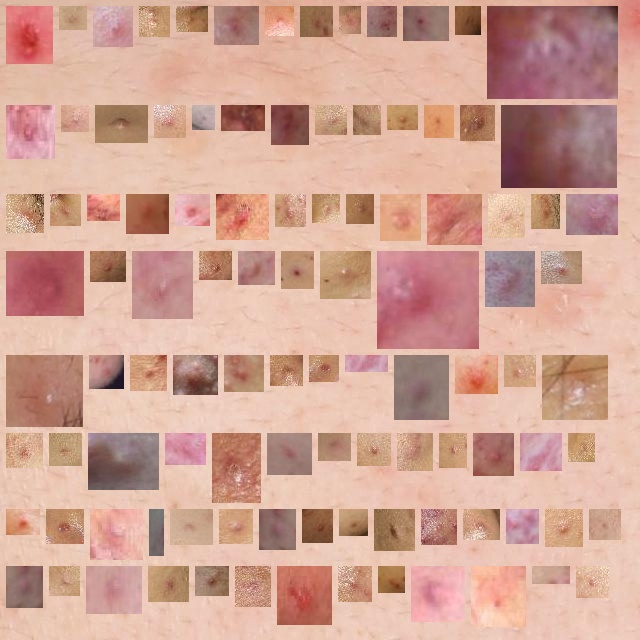papule: (495, 14, 610, 91), (385, 259, 471, 341), (509, 113, 609, 180), (14, 363, 75, 419), (14, 259, 76, 308), (550, 363, 600, 412), (140, 259, 185, 311), (96, 441, 151, 482), (402, 363, 441, 412), (220, 441, 253, 495), (479, 574, 518, 619), (285, 574, 324, 617), (94, 566, 134, 606), (419, 574, 457, 614), (435, 202, 474, 237), (493, 259, 527, 299), (14, 14, 45, 56), (98, 517, 135, 552), (14, 113, 47, 151), (328, 259, 363, 291), (224, 202, 261, 232), (574, 202, 610, 227), (103, 113, 140, 135), (388, 202, 413, 233), (275, 441, 304, 467), (181, 363, 210, 387), (481, 441, 506, 468), (222, 14, 251, 37), (382, 517, 407, 543), (134, 202, 161, 226), (263, 517, 288, 542), (14, 574, 38, 600), (463, 363, 490, 386), (101, 14, 125, 39), (410, 14, 441, 33), (496, 202, 517, 230), (528, 441, 554, 463), (178, 517, 205, 537), (279, 113, 301, 137), (14, 202, 36, 225), (232, 363, 256, 384), (156, 574, 181, 594), (243, 574, 263, 599), (553, 517, 575, 539), (229, 113, 257, 130), (405, 441, 425, 463), (549, 259, 574, 276), (138, 363, 159, 383), (54, 517, 76, 536), (173, 441, 198, 457), (429, 517, 449, 537), (14, 441, 35, 460), (468, 113, 487, 133), (246, 259, 267, 277), (289, 259, 306, 281), (346, 574, 364, 594), (97, 363, 116, 381), (227, 517, 245, 536), (514, 517, 531, 536), (471, 517, 492, 532), (365, 441, 383, 458), (183, 202, 202, 218), (98, 259, 118, 274), (57, 441, 74, 458), (162, 113, 178, 130), (584, 574, 601, 590), (310, 517, 325, 535), (512, 363, 528, 379), (308, 14, 325, 29), (283, 202, 298, 219), (278, 363, 295, 378), (203, 574, 221, 588), (539, 202, 552, 221), (58, 202, 73, 218), (597, 517, 613, 532), (432, 113, 446, 130), (447, 441, 459, 460), (147, 14, 162, 29), (323, 113, 339, 127), (207, 259, 224, 272), (353, 363, 380, 371), (375, 14, 389, 29), (57, 574, 72, 588), (326, 441, 343, 453), (540, 574, 562, 583), (95, 202, 112, 213), (273, 14, 286, 28), (14, 517, 32, 527), (361, 113, 373, 127), (354, 202, 366, 216), (184, 14, 200, 24), (320, 202, 332, 215), (317, 363, 331, 374), (576, 441, 587, 454), (347, 517, 360, 528), (395, 113, 410, 122), (69, 113, 81, 124), (463, 14, 473, 27), (386, 574, 397, 585), (67, 14, 79, 22), (347, 14, 353, 26), (200, 113, 207, 122)
